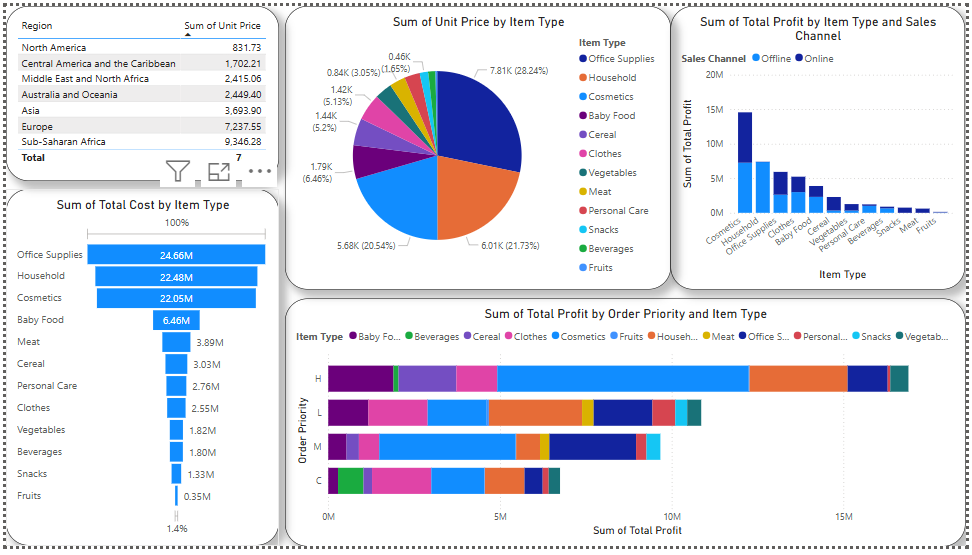

The dashboard page shown, as its layout file describes it:
{"tool":"powerbi","page":{"name":"Page 3","canvas":[1280,720],"ordinal":2},"visuals":[{"type":"tableEx","fields":{"Values":["Amazon Sales data.Region","Sum(Amazon Sales data.Unit Price)"]},"box":[0,0,364,233.6],"z":0},{"type":"pieChart","fields":{"Category":["Amazon Sales data.Item Type"],"Y":["Sum(Amazon Sales data.Unit Price)"]},"box":[371.9,0,515,378.3],"z":1000},{"type":"funnel","fields":{"Category":["Amazon Sales data.Item Type"],"Y":["Sum(Amazon Sales data.Total Cost)"]},"box":[0,244.8,364,475.2],"z":2000},{"type":"barChart","fields":{"Category":["Amazon Sales data.Order Priority"],"Y":["Sum(Amazon Sales data.Total Profit)"],"Series":["Amazon Sales data.Item Type"]},"box":[371.9,389.4,907.5,330.6],"z":3000},{"type":"lineStackedColumnComboChart","fields":{"Category":["Amazon Sales data.Item Type"],"Y":["Sum(Amazon Sales data.Total Profit)"],"Series":["Amazon Sales data.Sales Channel"]},"box":[886.9,0,392.6,378.3],"z":4000}]}

Visuals, with their boxes in screenshot pixels (x1, y1, x2, y2), scaled from the page's 1280x720 canvas onto the 972x555 screenshot:
tableEx - Amazon Sales data.Region x Sum(Amazon Sales data.Unit Price): bbox(0, 0, 276, 180)
pieChart - Amazon Sales data.Item Type x Sum(Amazon Sales data.Unit Price): bbox(282, 0, 673, 292)
funnel - Amazon Sales data.Item Type x Sum(Amazon Sales data.Total Cost): bbox(0, 189, 276, 554)
barChart - Amazon Sales data.Order Priority x Sum(Amazon Sales data.Total Profit): bbox(282, 300, 971, 554)
lineStackedColumnComboChart - Amazon Sales data.Item Type x Sum(Amazon Sales data.Total Profit): bbox(673, 0, 971, 292)
